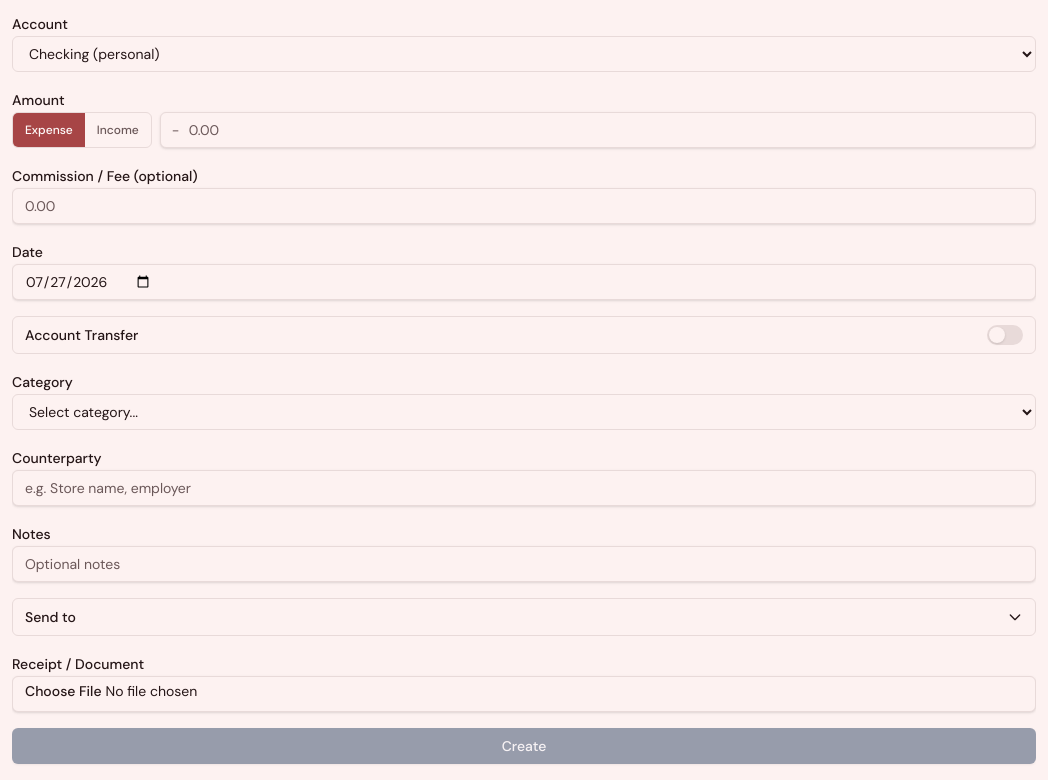
Test: TransactionForm - transfer mode › should auto-fill counterparty when target account is selected
Click the switch at x=1005, y=335, box [987,325,1023,345]
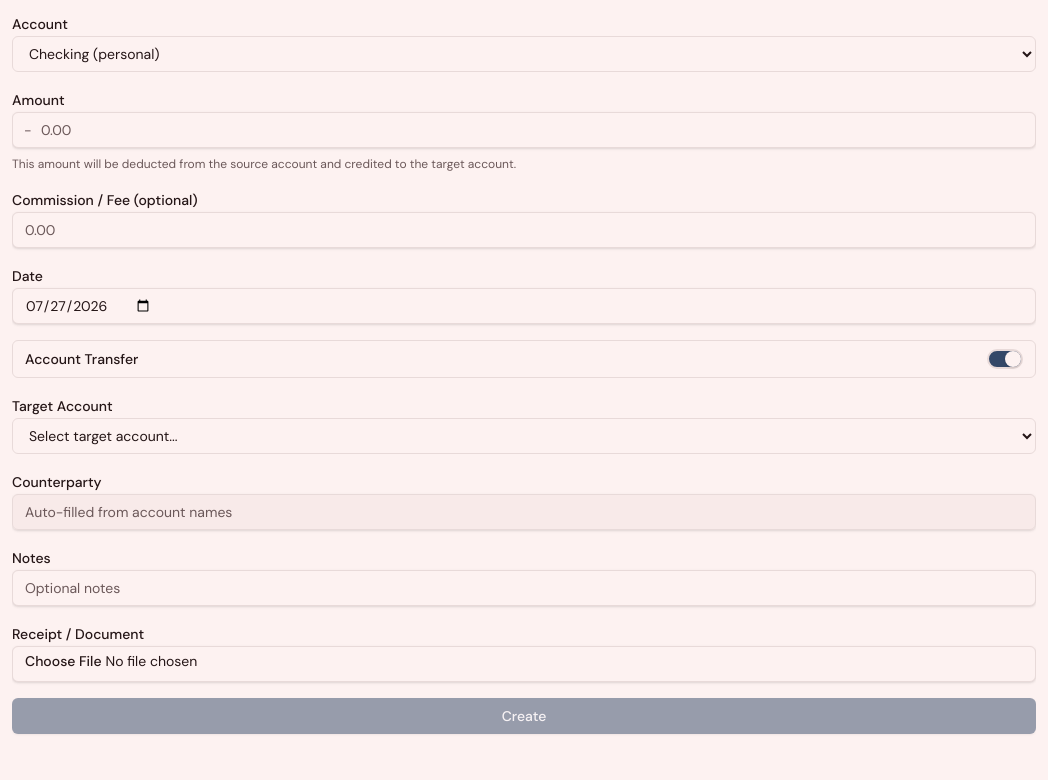
Note: Select a target account — use getByDisplayValue to find the select containing "Select target account..."
Select "Savings (savings)" in the 2nd dropdown showing "Select target account..." at x=524, y=436, box [12,418,1036,454]
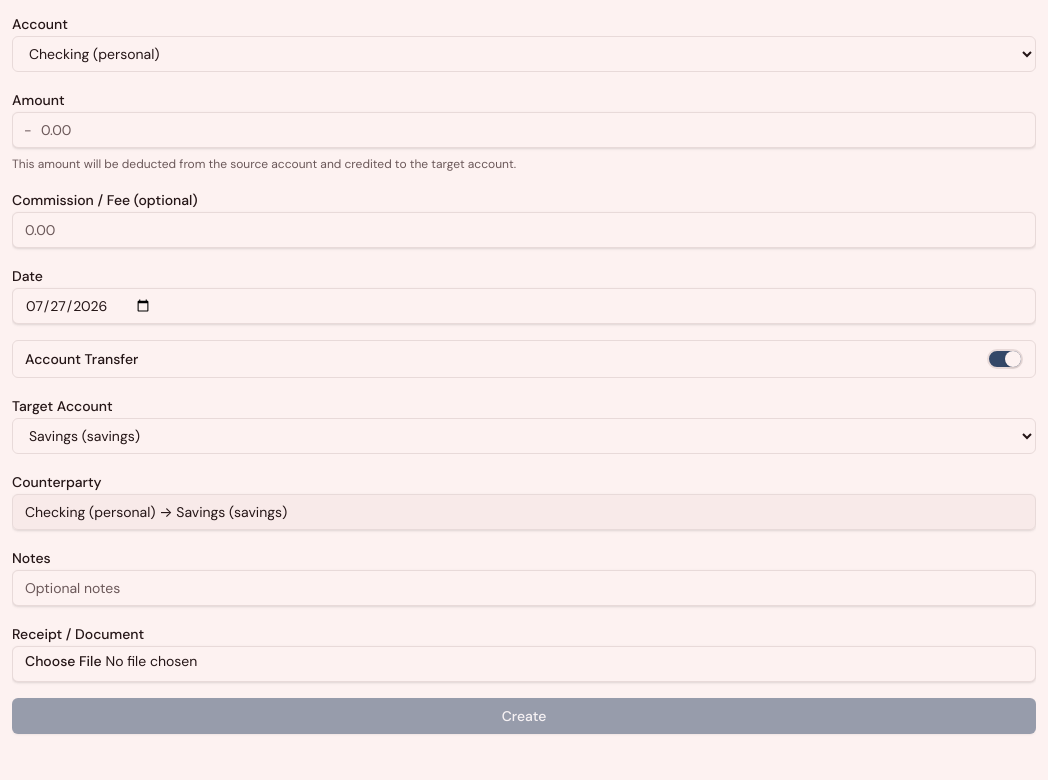
expect the field showing "Checking (personal) → Savings (savings)" is shown: met, box [12,494,1036,530]
